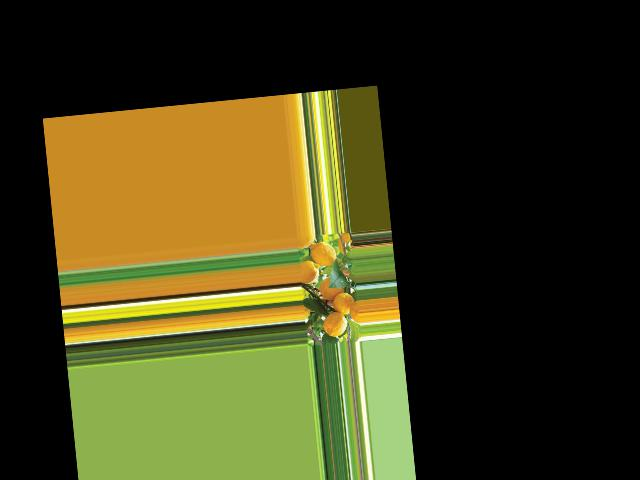lemon: (323, 309, 350, 340)
